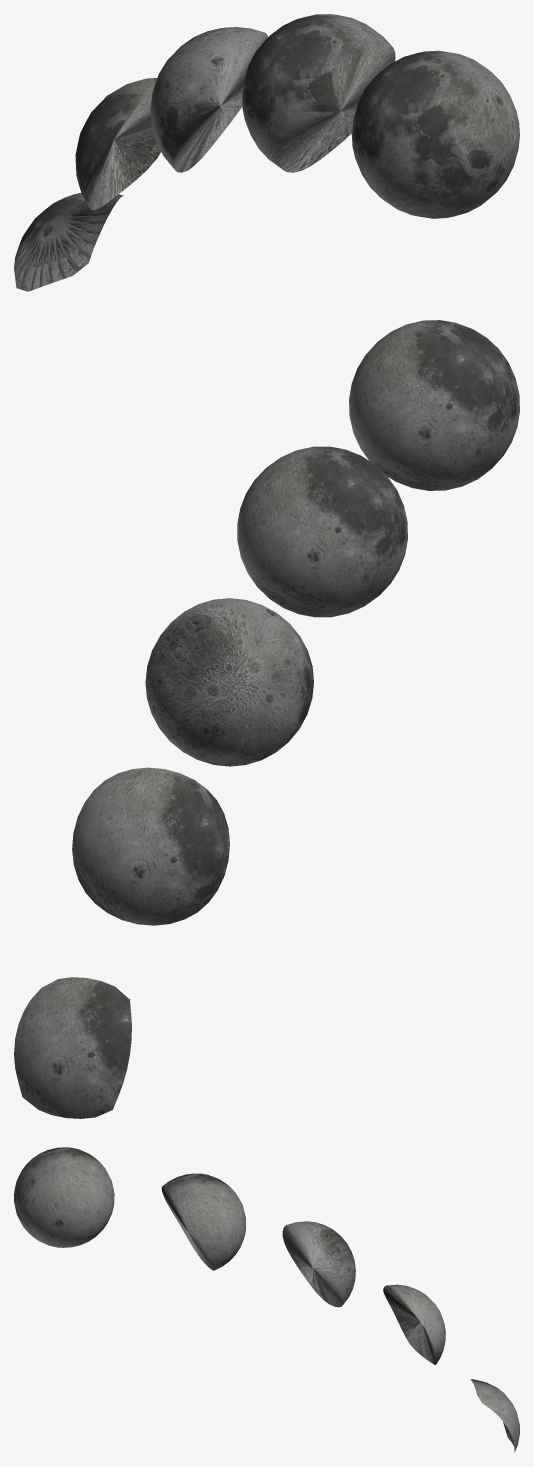
File: moon_phases.fbx
3 views of the same model, one above another, from view 1: azimuth 30°, elevation 25°; view 2: azimuth 150°, elevation 25°; view 3: azimuth 270°, elevation 25° (orthographic). The views are drawn at different scales.
Parts seen in each view (by area): view 1: moon:Moon, moon2:Moon, moon1:Moon, moon4:Moon, moon3:Moon; view 2: moon2:Moon, moon:Moon, moon1:Moon, moon4:Moon, moon3:Moon; view 3: moon:Moon, moon2:Moon, moon1:Moon, moon4:Moon, moon3:Moon.
Part boxes in pixels (x1=…): moon:Moon: x1=351, y1=50, x2=519, y2=218; moon2:Moon: x1=242, y1=14, x2=395, y2=172; moon1:Moon: x1=150, y1=27, x2=267, y2=172; moon4:Moon: x1=75, y1=78, x2=160, y2=210; moon3:Moon: x1=14, y1=193, x2=123, y2=291; moon2:Moon: x1=237, y1=446, x2=407, y2=617; moon:Moon: x1=349, y1=320, x2=519, y2=490; moon1:Moon: x1=145, y1=598, x2=313, y2=766; moon4:Moon: x1=72, y1=767, x2=229, y2=925; moon3:Moon: x1=14, y1=977, x2=131, y2=1118; moon:Moon: x1=14, y1=1147, x2=114, y2=1247; moon2:Moon: x1=161, y1=1173, x2=245, y2=1270; moon1:Moon: x1=282, y1=1221, x2=355, y2=1307; moon4:Moon: x1=383, y1=1284, x2=445, y2=1364; moon3:Moon: x1=470, y1=1379, x2=519, y2=1452.
Bounding box in the file's own units: 1.74 × 5.7 × 8.76.
5 materials, 5 textured.
